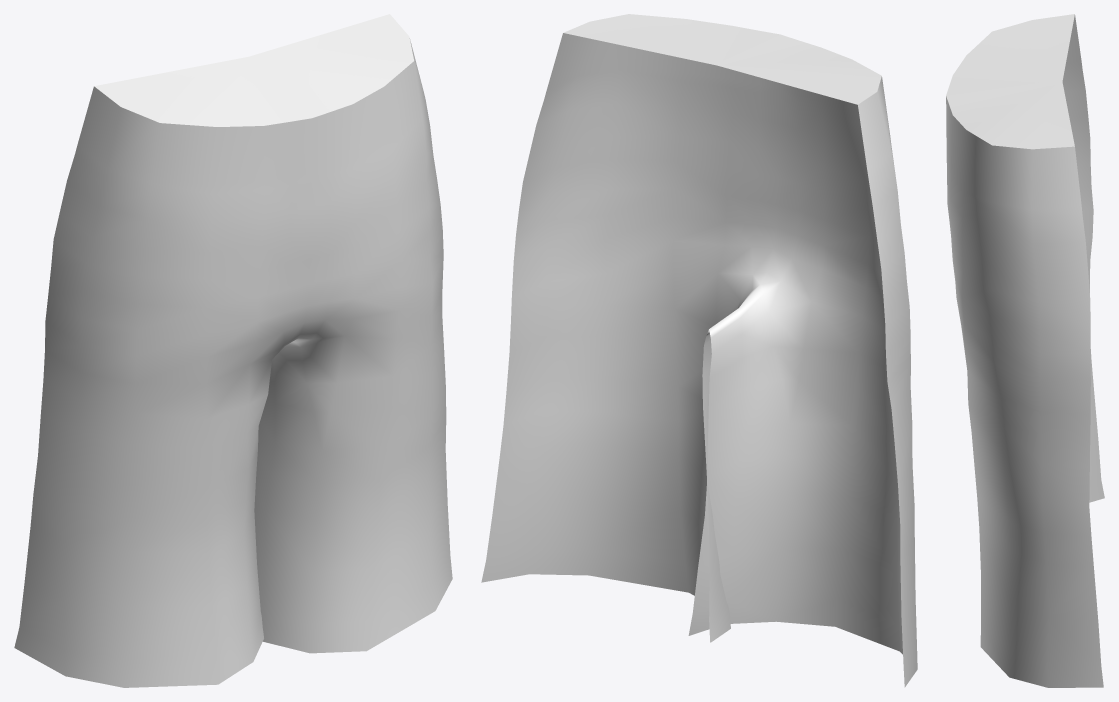
Rendered from M_Lower_Ugc_005_02_02_01.FBX.
3 renders of one model, left to right at view 1: azimuth 30°, elevation 25°; view 2: azimuth 150°, elevation 25°; view 3: azimuth 270°, elevation 25°, orthographic. The views are drawn at different scales.
Visible parts, largest first — view 1: M_Lower_Ugc_005_02_02_01; view 2: M_Lower_Ugc_005_02_02_01; view 3: M_Lower_Ugc_005_02_02_01.
Part boxes in pixels (x1,y1,x2,y2): M_Lower_Ugc_005_02_02_01: (14, 14, 452, 687); M_Lower_Ugc_005_02_02_01: (481, 14, 917, 687); M_Lower_Ugc_005_02_02_01: (946, 14, 1104, 687).
Size of the model in its own units: 37.13 by 48.46 by 13.06.
Materials: 1 (1 with a texture image).
